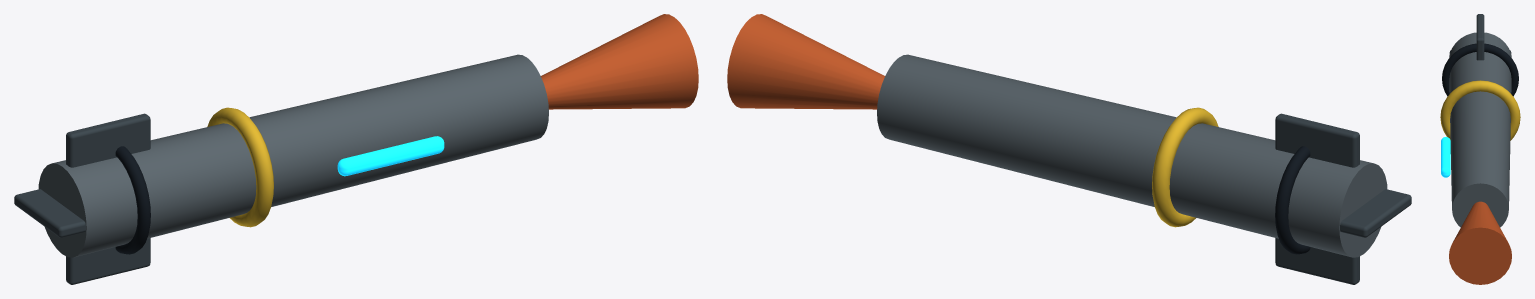
3 renders of one model, left to right at view 1: azimuth 30°, elevation 25°; view 2: azimuth 150°, elevation 25°; view 3: azimuth 270°, elevation 25°, orthographic. The views are drawn at different scales.
Bounding box in the file's own units: 4.88 × 1.1 × 0.81.
